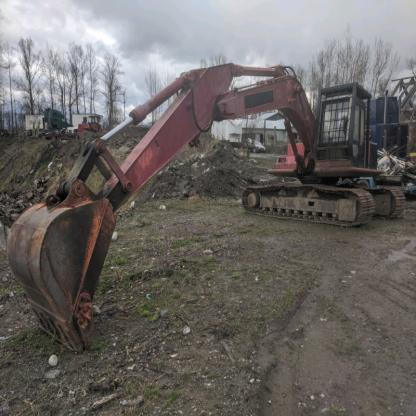excavator: (8, 52, 415, 356)
